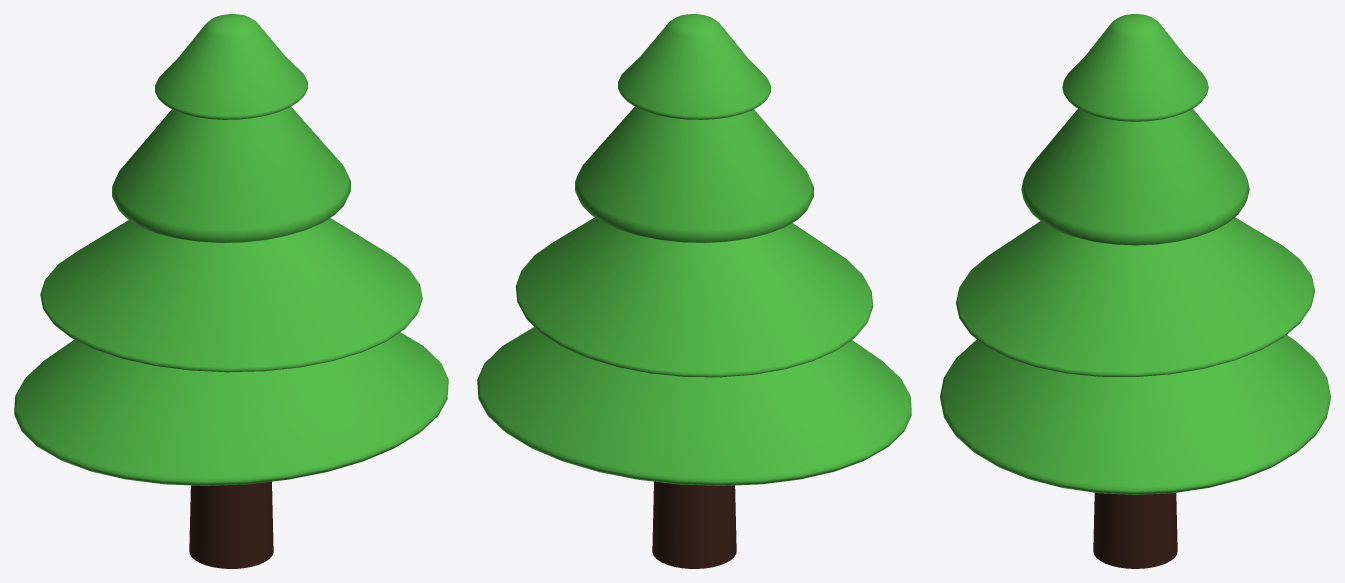
The model's file is Tree.fbx.
3 renders of one model, left to right at view 1: azimuth 30°, elevation 25°; view 2: azimuth 150°, elevation 25°; view 3: azimuth 270°, elevation 25°, orthographic.
Visible parts, largest first — view 1: Cylinder.001, Cylinder.002, Cylinder.003, Cylinder.004, Cylinder; view 2: Cylinder.001, Cylinder.002, Cylinder.003, Cylinder.004, Cylinder; view 3: Cylinder.001, Cylinder.002, Cylinder.003, Cylinder.004, Cylinder.
Boxes of the visible parts, box(x1,y1,x2,y2) form: Cylinder.001: box(14, 332, 448, 485); Cylinder.002: box(40, 218, 422, 372); Cylinder.003: box(112, 107, 350, 243); Cylinder.004: box(155, 14, 307, 119); Cylinder: box(189, 481, 273, 568); Cylinder.001: box(477, 327, 911, 485); Cylinder.002: box(515, 217, 873, 377); Cylinder.003: box(575, 107, 813, 243); Cylinder.004: box(618, 14, 770, 119); Cylinder: box(652, 481, 736, 568); Cylinder.001: box(940, 335, 1330, 494); Cylinder.002: box(956, 217, 1314, 376); Cylinder.003: box(1021, 109, 1249, 245); Cylinder.004: box(1062, 14, 1208, 121); Cylinder: box(1093, 493, 1177, 568).
Size of the model in its own units: 552 by 722 by 480.
